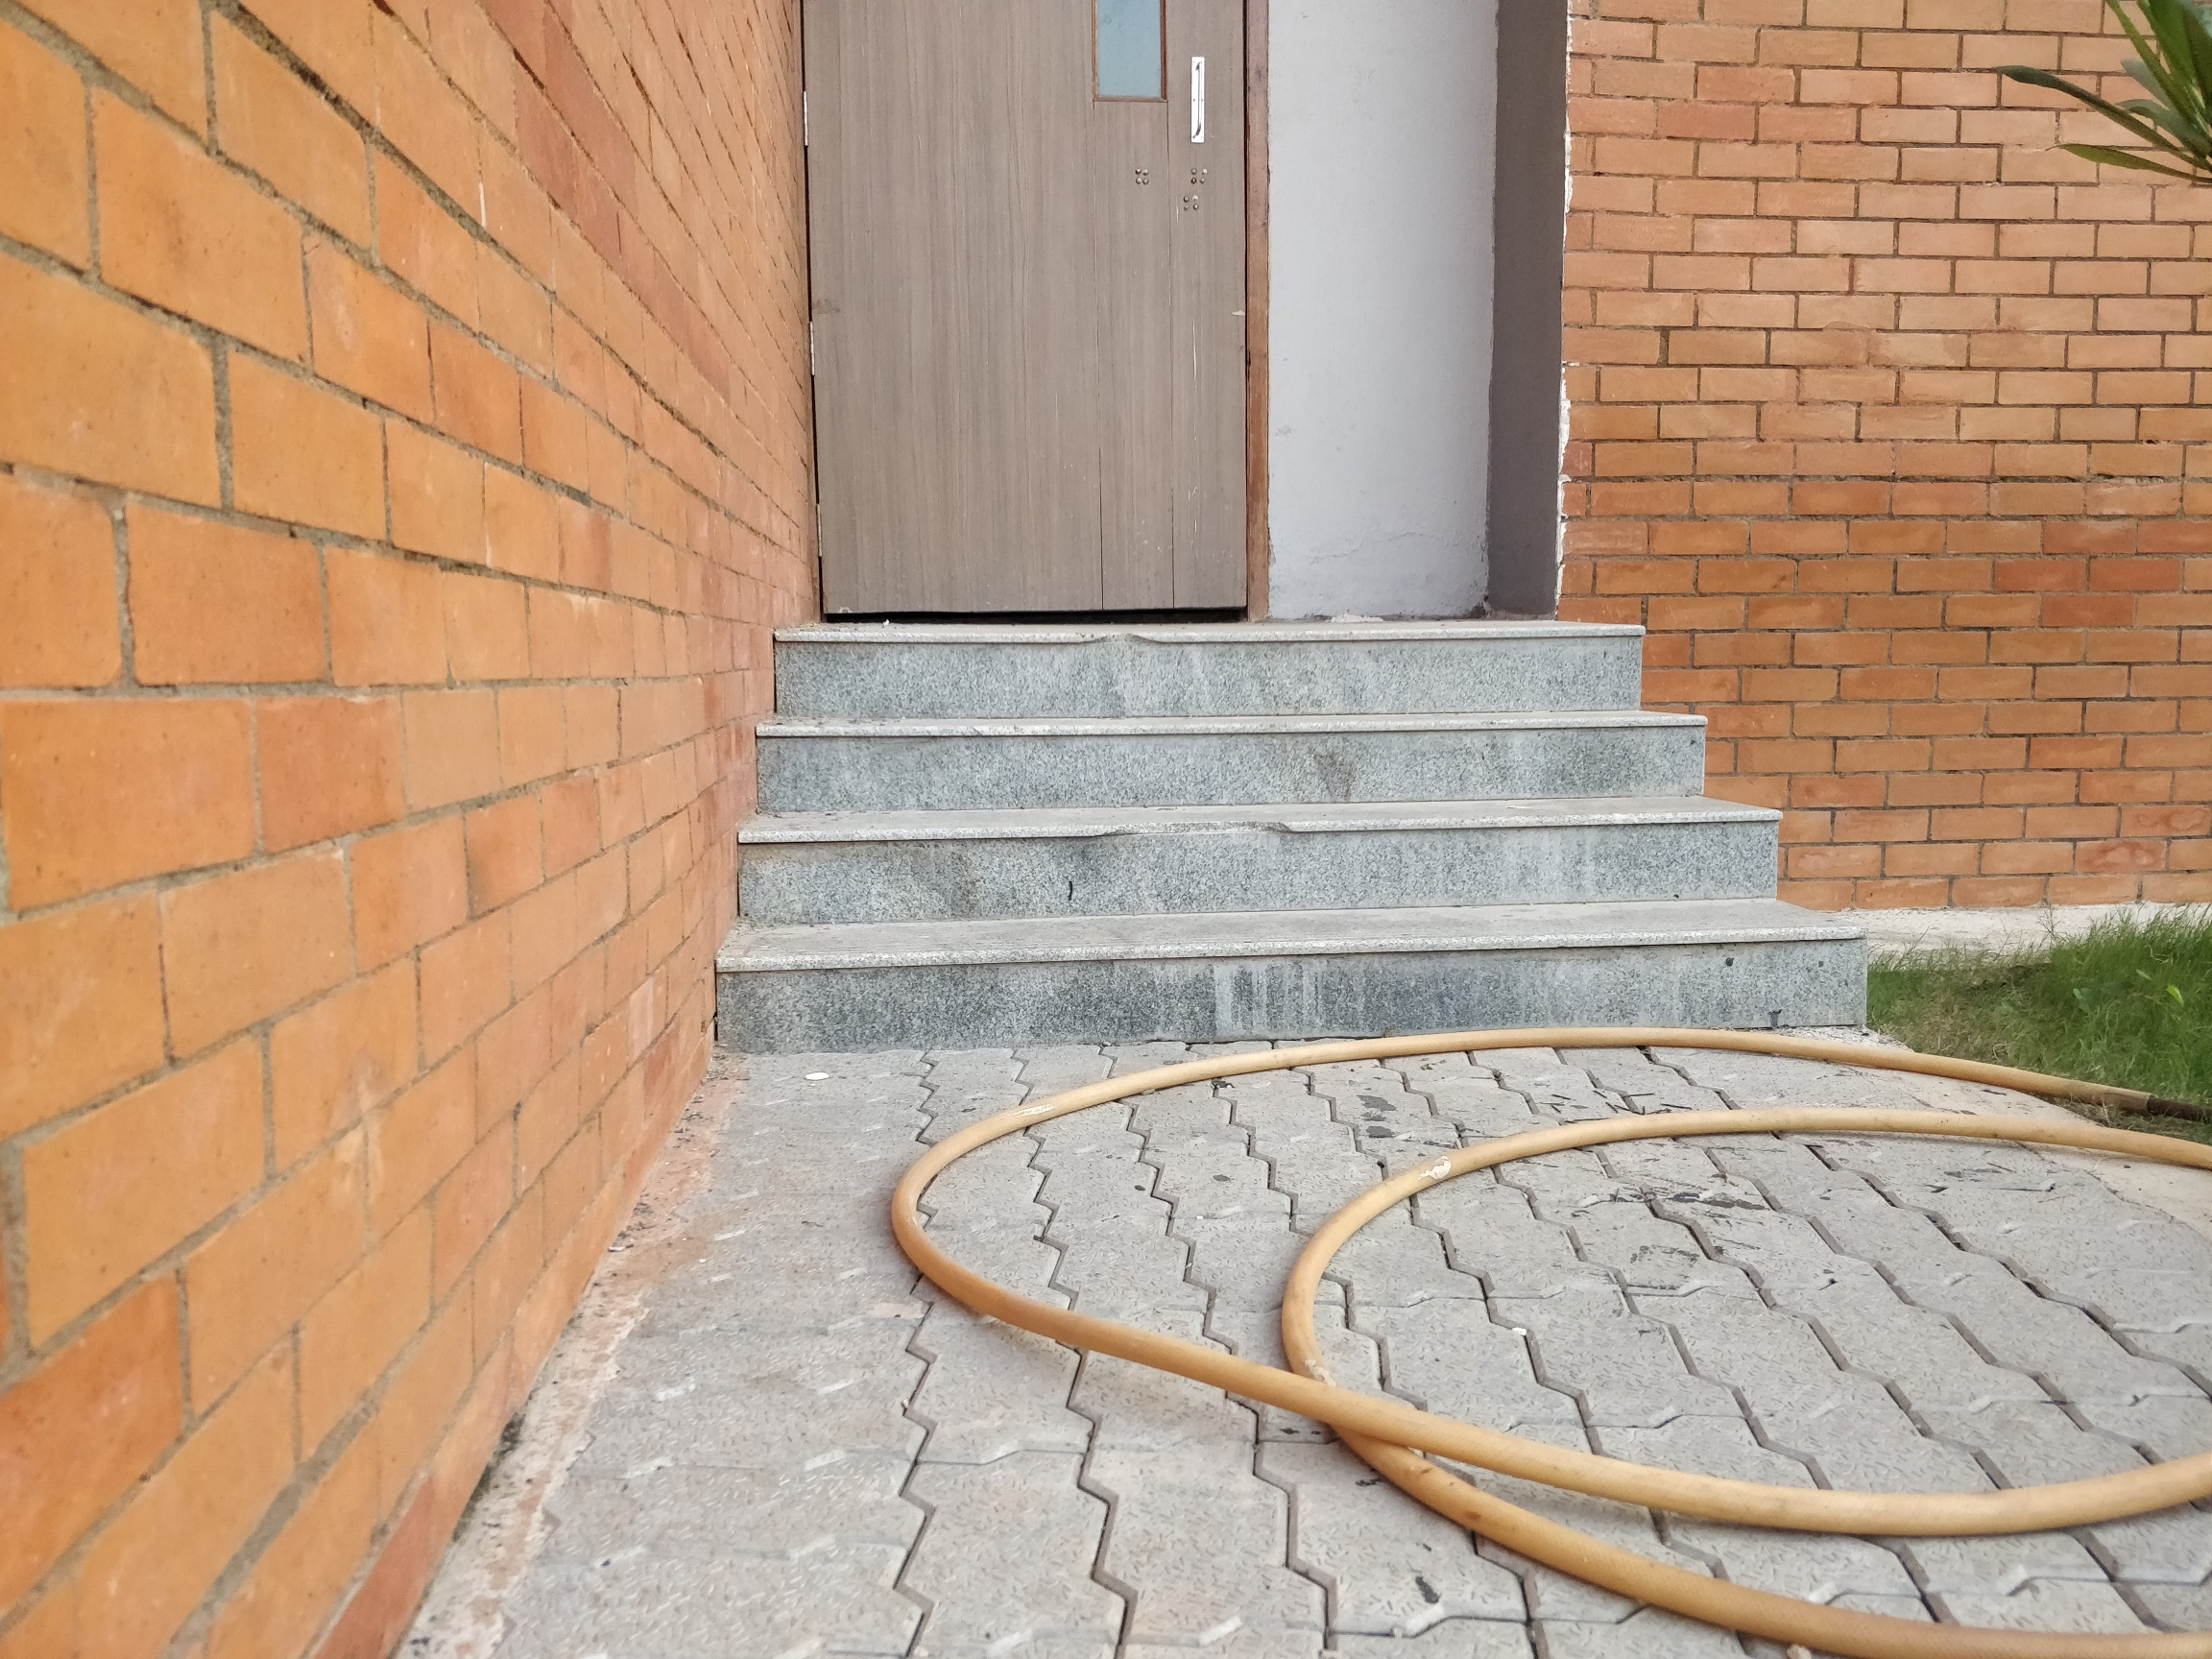stairs_up: (660, 627, 1858, 1049)
